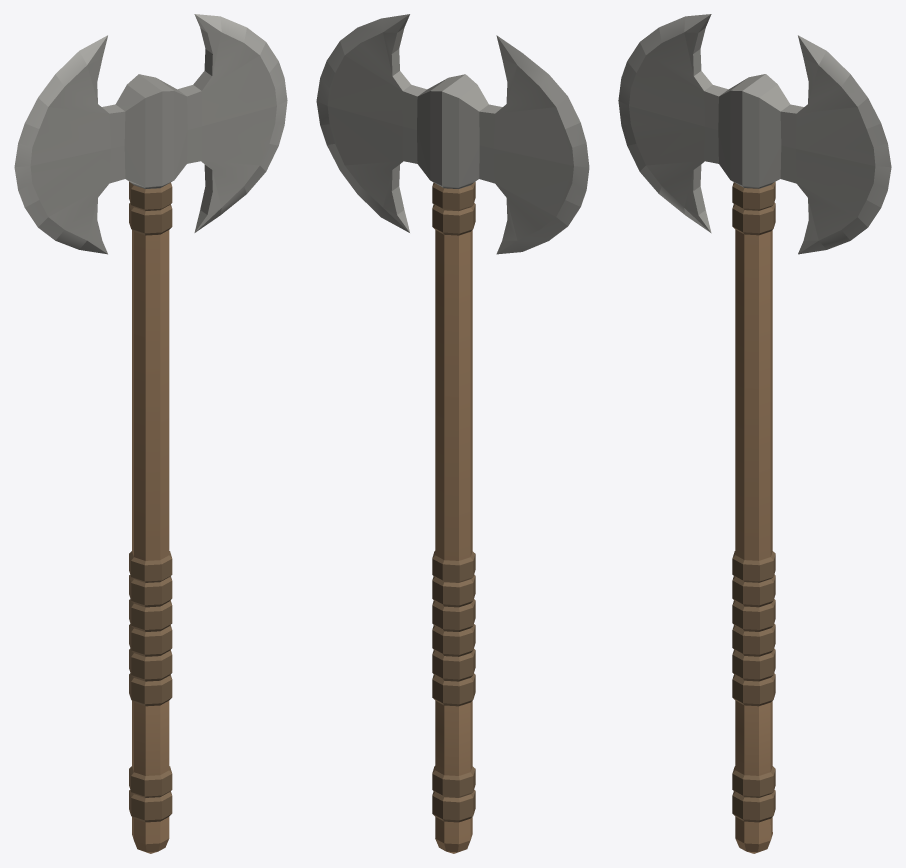
File: SM_pwe_medieval_axe_03.fbx
The picture shows the model from 3 angles, left to right: view 1: azimuth 30°, elevation 25°; view 2: azimuth 150°, elevation 25°; view 3: azimuth 330°, elevation 25°; orthographic projection.
Visible parts, largest first — view 1: SM_pwe_medieval_axe_03; view 2: SM_pwe_medieval_axe_03; view 3: SM_pwe_medieval_axe_03.
Part boxes in pixels (x1,y1,x2,y2): SM_pwe_medieval_axe_03: [14, 14, 287, 853]; SM_pwe_medieval_axe_03: [316, 14, 589, 853]; SM_pwe_medieval_axe_03: [618, 14, 891, 853].
Bounding box in the file's own units: 37.19 × 108 × 5.58.
